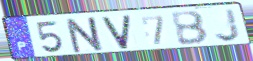5: (34, 20, 65, 54)
7: (141, 15, 166, 46)
B: (169, 10, 211, 46)
J: (213, 8, 243, 43)
N: (65, 15, 106, 54)
V: (100, 14, 133, 51)
